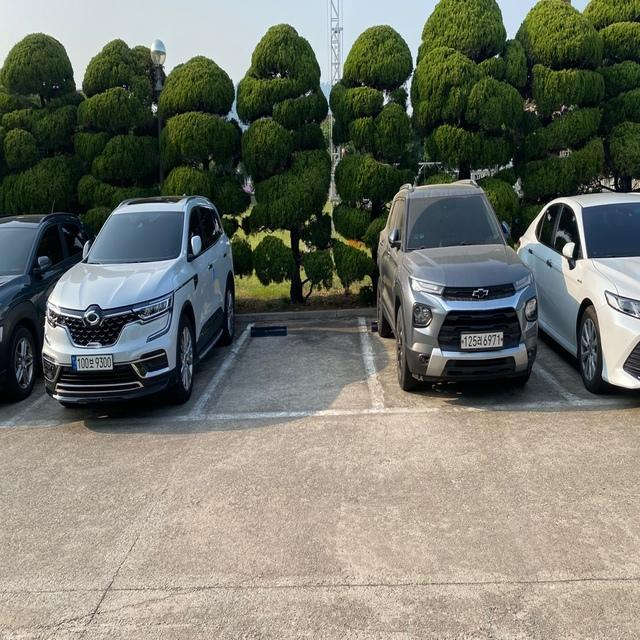Car: (42, 199, 238, 411), (376, 186, 540, 397)
Vacant: (181, 317, 389, 427)
